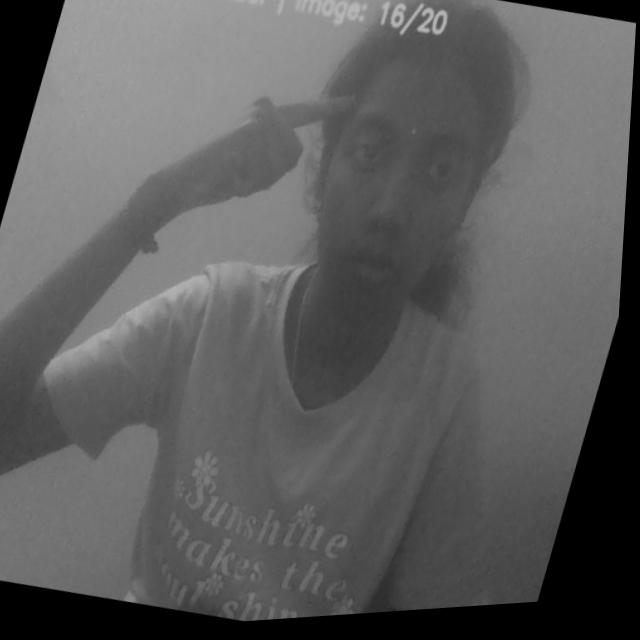Remember: (117, 53, 369, 278)
